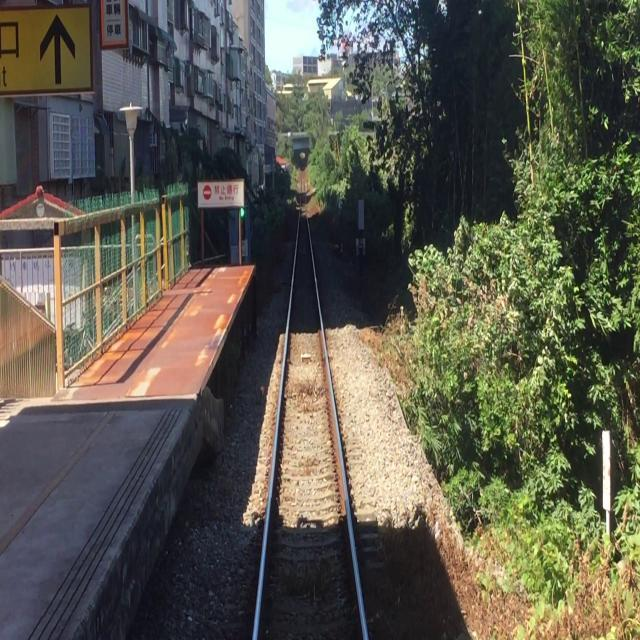rail-track: (265, 220, 360, 640)
